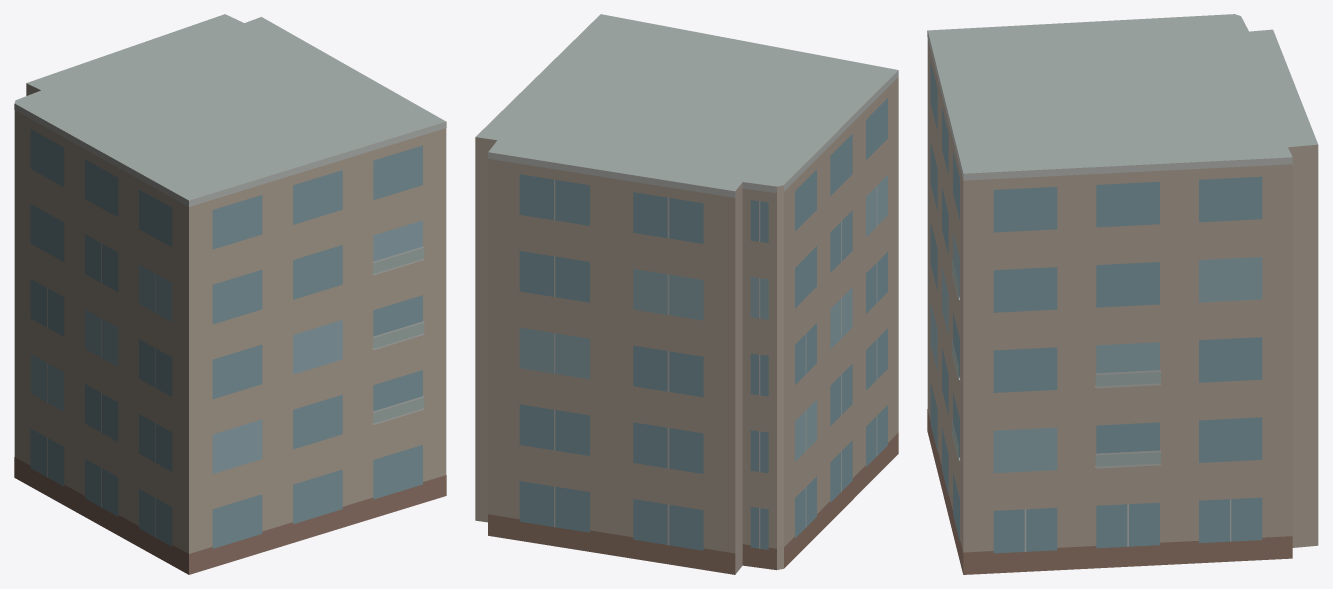
Rendered from survey-upis-32734517.glb.
The picture shows the model from 3 angles, left to right: view 1: azimuth 30°, elevation 25°; view 2: azimuth 150°, elevation 25°; view 3: azimuth 270°, elevation 25°; orthographic projection. The views are drawn at different scales.
Parts seen in each view (by area): view 1: survey-upis-32734517.tmp; view 2: survey-upis-32734517.tmp; view 3: survey-upis-32734517.tmp.
Part boxes in pixels (bbox=[...]): survey-upis-32734517.tmp: bbox=[14, 14, 446, 574]; survey-upis-32734517.tmp: bbox=[475, 14, 898, 574]; survey-upis-32734517.tmp: bbox=[927, 14, 1318, 574].
Size of the model in its own units: 12.13 by 14.2 by 12.54.
